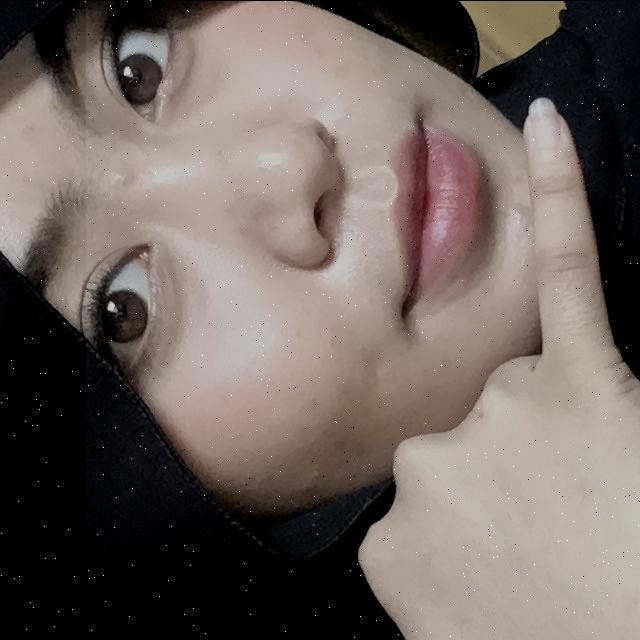telpon: (86, 0, 640, 640)
